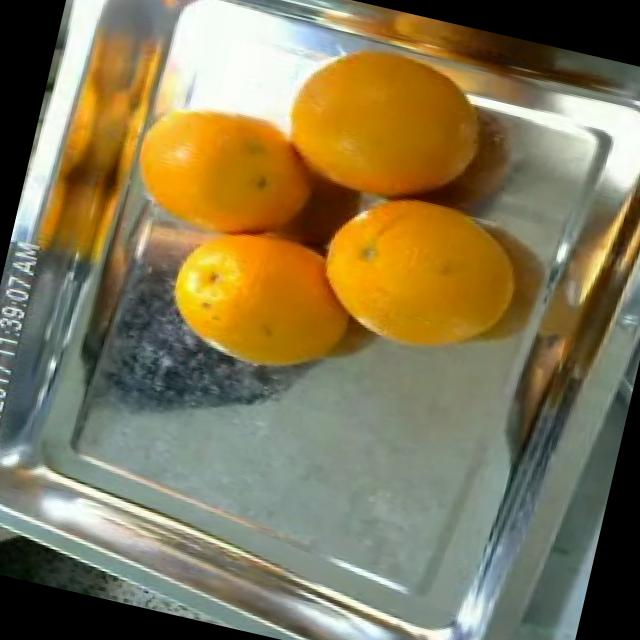Fruit: (136, 192, 382, 404), (99, 66, 330, 265)
